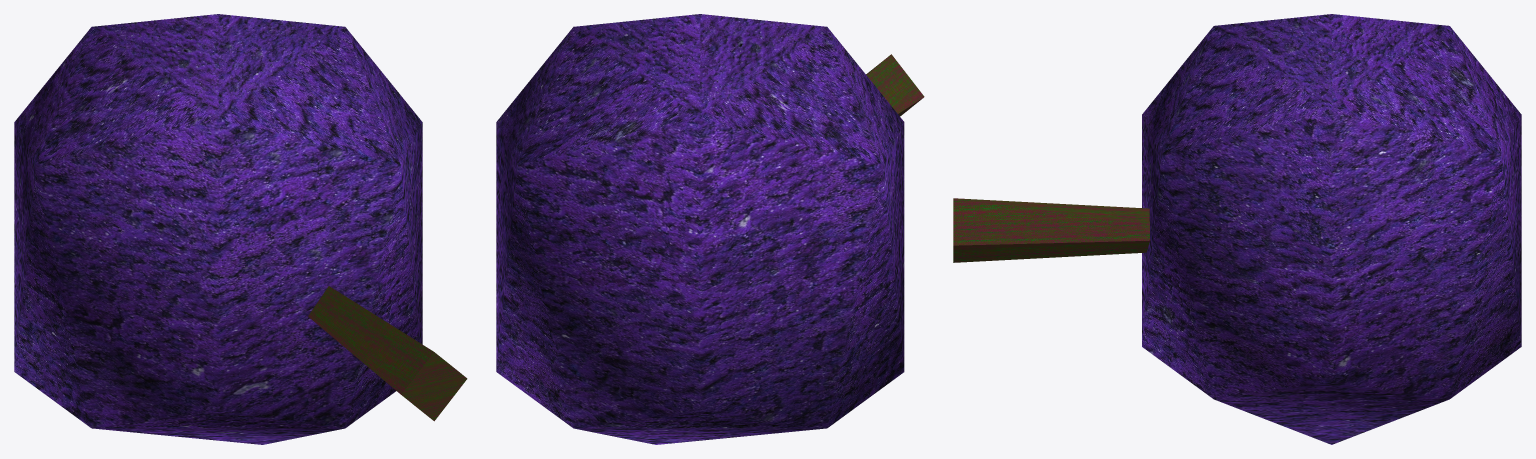
File: treeSmaller.FBX
3 renders of one model, left to right at view 1: azimuth 30°, elevation 25°; view 2: azimuth 150°, elevation 25°; view 3: azimuth 270°, elevation 25°, orthographic. The views are drawn at different scales.
Visible parts, largest first — view 1: GeoSphere001; view 2: GeoSphere001; view 3: GeoSphere001.
Part boxes in pixels (left/top/right/bottom): GeoSphere001: left=14, top=14, right=467, bottom=444; GeoSphere001: left=496, top=14, right=924, bottom=444; GeoSphere001: left=953, top=14, right=1521, bottom=444.
Size of the model in its own units: 10.76 by 11.76 by 14.74.
